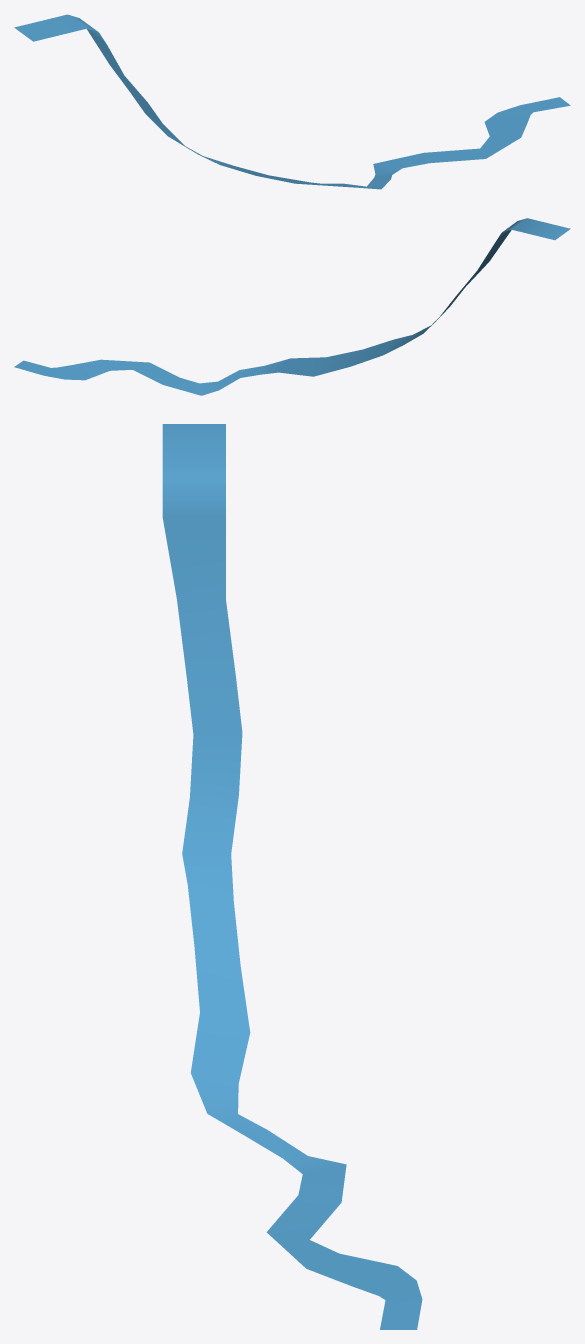
The model's file is water.fbx.
3 renders of one model, top to bottom at view 1: azimuth 30°, elevation 25°; view 2: azimuth 150°, elevation 25°; view 3: azimuth 270°, elevation 25°, orthographic. The views are drawn at different scales.
Parts seen in each view (by area): view 1: Water; view 2: Water; view 3: Water.
Boxes of the visible parts, x1,y1,x2,y2 form: Water: (14,14,570,189); Water: (14,218,570,395); Water: (162,424,422,1329).
Bounding box in the file's own units: 12.49 × 5.15 × 2.85.
